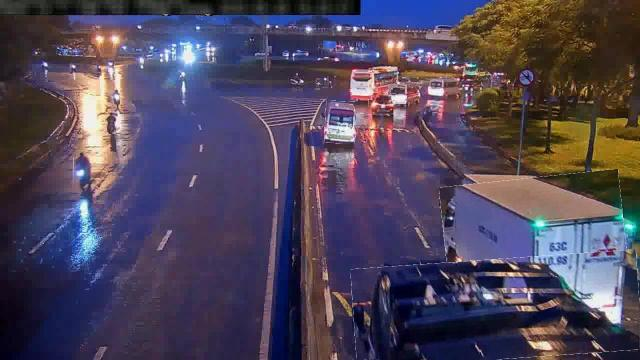Bike: (74, 151, 94, 190), (105, 112, 117, 134)
Bus: (324, 100, 356, 144)
Car: (368, 92, 396, 115)
Truck: (442, 174, 630, 338), (352, 254, 640, 360)
